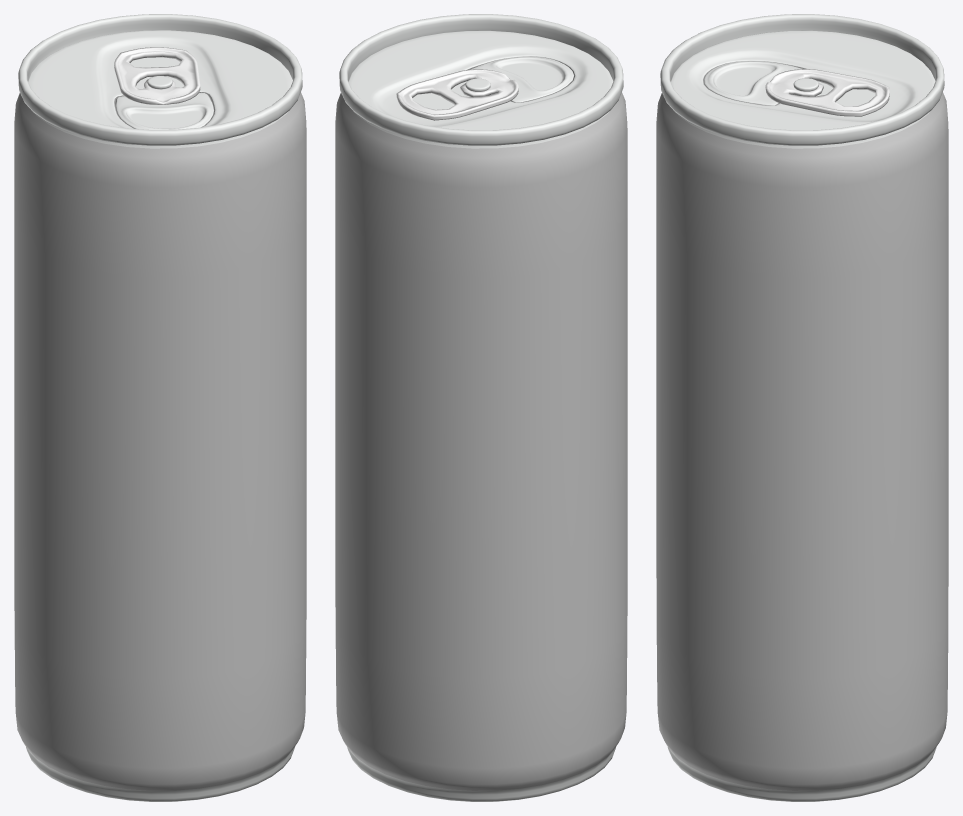
3 renders of one model, left to right at view 1: azimuth 30°, elevation 25°; view 2: azimuth 150°, elevation 25°; view 3: azimuth 270°, elevation 25°, orthographic.
Parts seen in each view (by area): view 1: aluminium can 250 ml.010; view 2: aluminium can 250 ml.010; view 3: aluminium can 250 ml.010.
Boxes of the visible parts, x1=… form: aluminium can 250 ml.010: x1=14, y1=14, x2=306, y2=801; aluminium can 250 ml.010: x1=335, y1=14, x2=627, y2=801; aluminium can 250 ml.010: x1=656, y1=14, x2=948, y2=801.
Bounding box in the file's own units: 0.0592 × 0.1505 × 0.0592.
3 materials, 1 textured.
